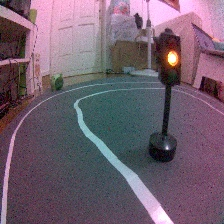amber: (147, 25, 184, 167)
